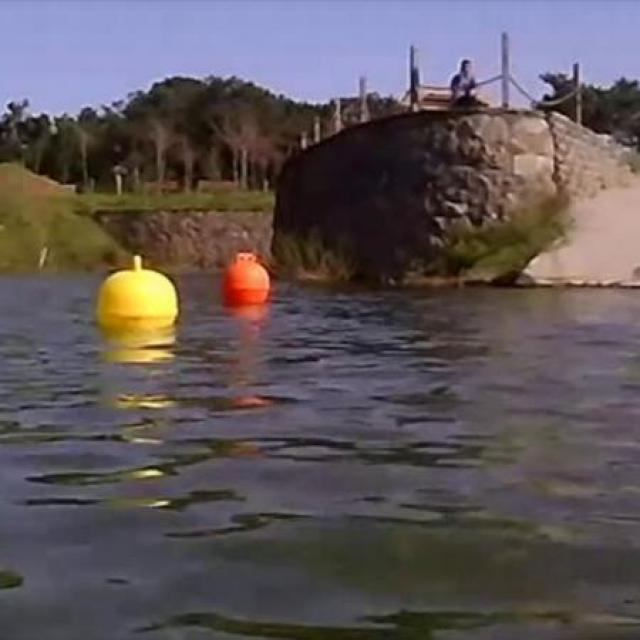buoy: (95, 254, 178, 332), (220, 252, 269, 304)
